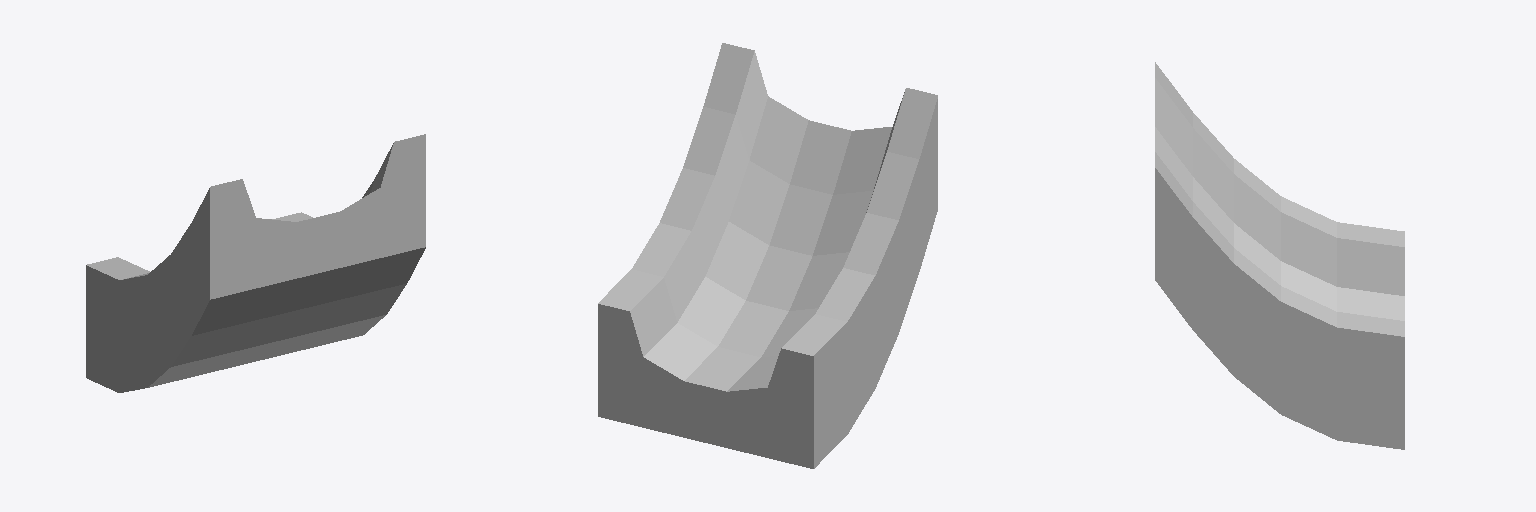
The model's file is ramp-start-d.obj.
3 renders of one model, left to right at view 1: azimuth 30°, elevation 25°; view 2: azimuth 150°, elevation 25°; view 3: azimuth 270°, elevation 25°, orthographic.
Parts seen in each view (by area): view 1: ramp-start-d; view 2: ramp-start-d; view 3: ramp-start-d.
Boxes of the visible parts, <box> form: ramp-start-d: <box>86,134,425,392</box>; ramp-start-d: <box>598,43,937,468</box>; ramp-start-d: <box>1155,62,1404,449</box>.
Bounding box in the file's own units: 1 × 1.25 × 1.